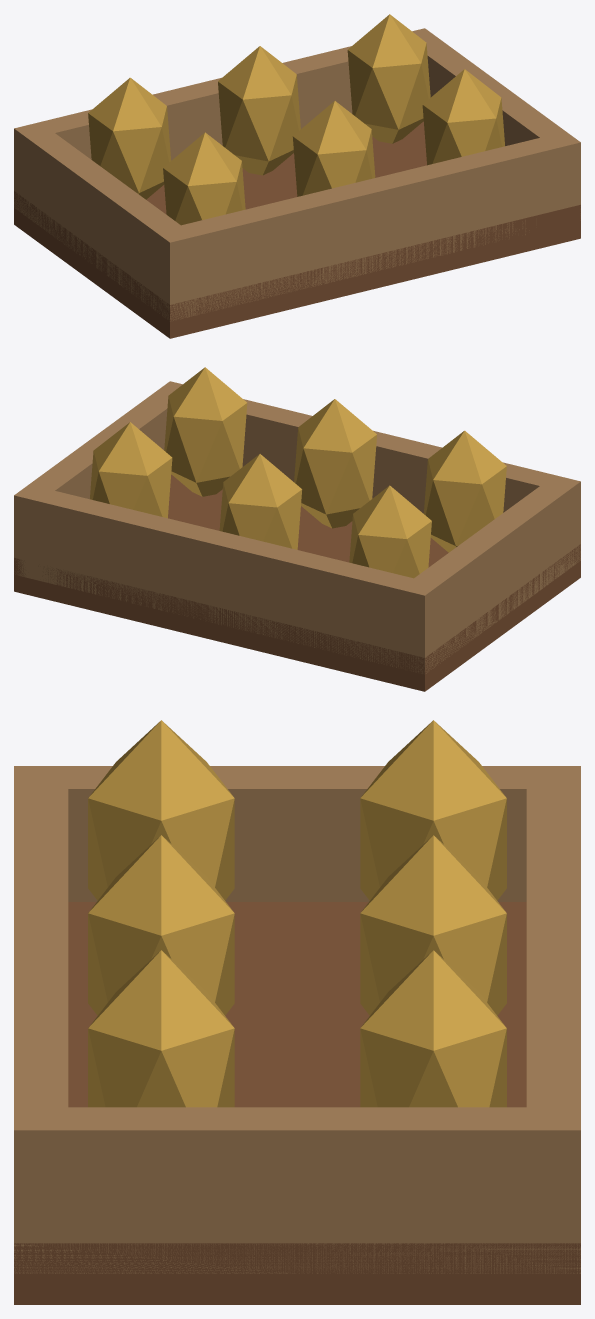
The model's file is set_pear_basket.glb.
3 renders of one model, top to bottom at view 1: azimuth 30°, elevation 25°; view 2: azimuth 150°, elevation 25°; view 3: azimuth 270°, elevation 25°, orthographic. The views are drawn at different scales.
Parts seen in each view (by area): view 1: set_pear_basket; view 2: set_pear_basket; view 3: set_pear_basket.
Part boxes in pixels (left/top/right/bottom): set_pear_basket: left=14, top=14, right=580, bottom=338; set_pear_basket: left=14, top=367, right=580, bottom=691; set_pear_basket: left=14, top=720, right=580, bottom=1304.
Bounding box in the file's own units: 0.38 × 0.14 × 0.25.
